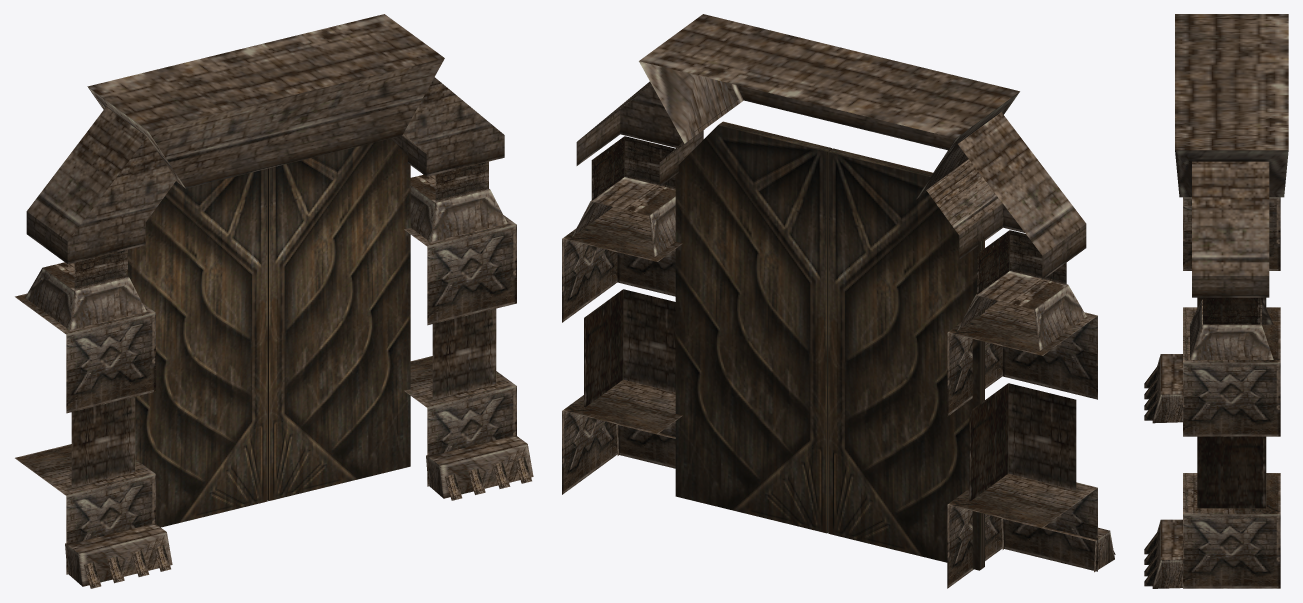
The model's file is building03.fbx.
3 views of the same model, side by side, from view 1: azimuth 30°, elevation 25°; view 2: azimuth 150°, elevation 25°; view 3: azimuth 270°, elevation 25° (orthographic). The views are drawn at different scales.
Parts seen in each view (by area): view 1: building03; view 2: building03; view 3: building03.
Part boxes in pixels (<box>): building03: <box>15,14,533,588</box>; building03: <box>562,14,1115,588</box>; building03: <box>1144,14,1288,588</box>.
Bounding box in the file's own units: 1928 × 1750 × 568.
